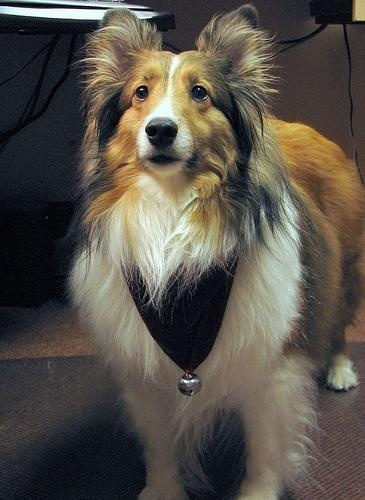dog: (67, 8, 365, 500)
